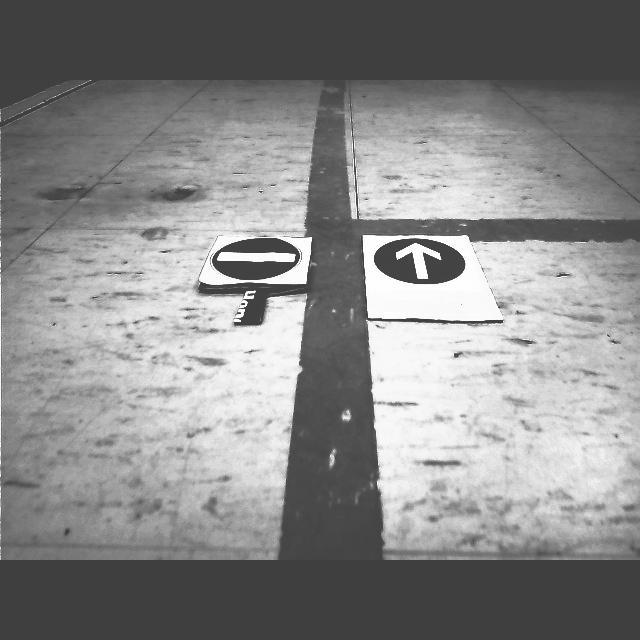GO FORWARD: (375, 238, 466, 284)
NO ENTRY: (213, 238, 301, 280)
